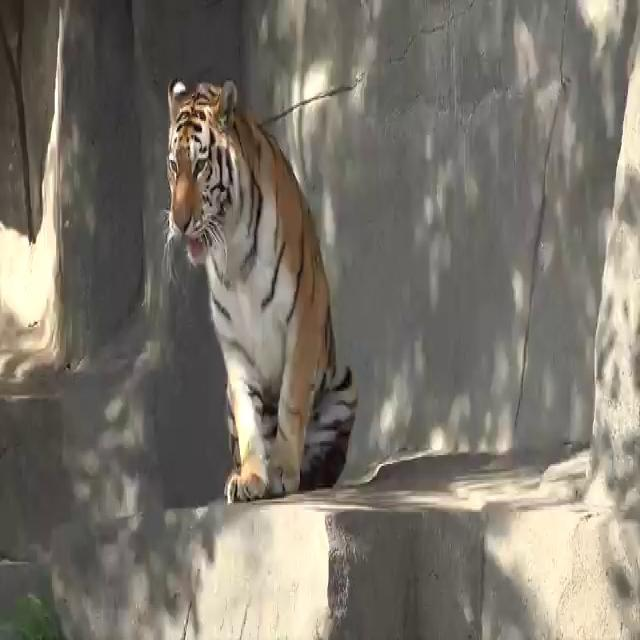tiger: (164, 75, 358, 502)
